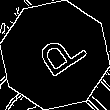P_SW: (24, 26, 86, 84)
